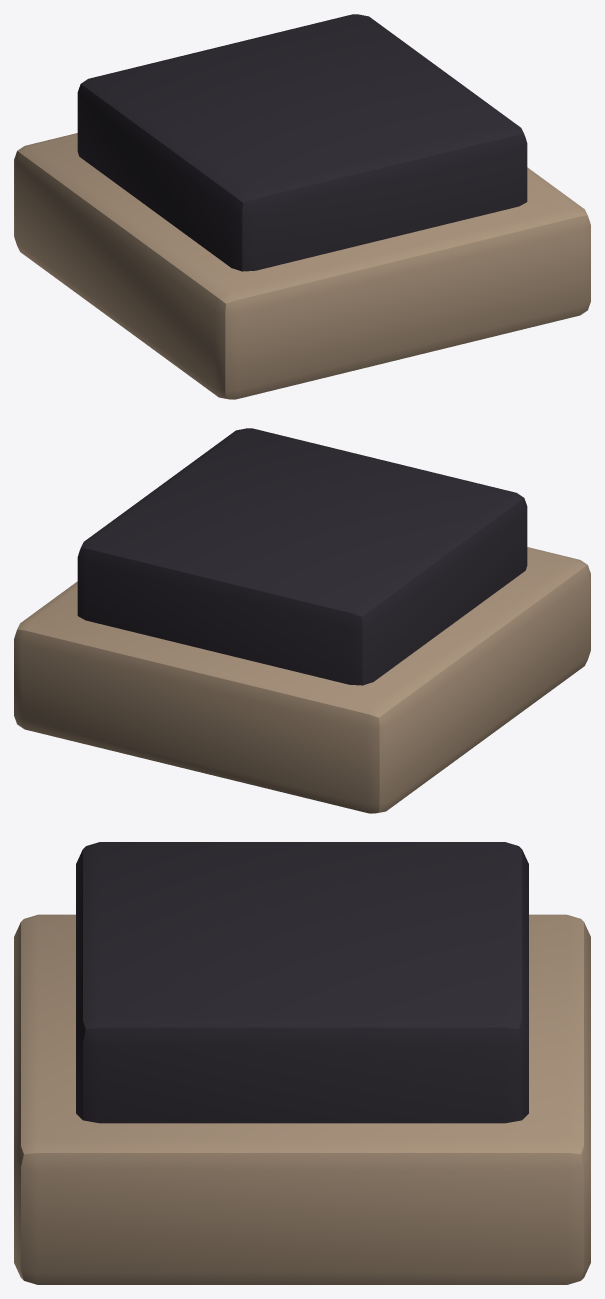
File: quaternius-cube-world-button.glb
The picture shows the model from 3 angles, top to bottom: view 1: azimuth 30°, elevation 25°; view 2: azimuth 150°, elevation 25°; view 3: azimuth 270°, elevation 25°; orthographic projection. The views are drawn at different scales.
Visible parts, largest first — view 1: Button; view 2: Button; view 3: Button.
Boxes of the visible parts, bbox=[...] form: Button: bbox=[14, 14, 590, 399]; Button: bbox=[14, 428, 590, 813]; Button: bbox=[14, 842, 590, 1284].
Bounding box in the file's own units: 1.32 × 0.6158 × 1.32.
1 material, 1 textured.
